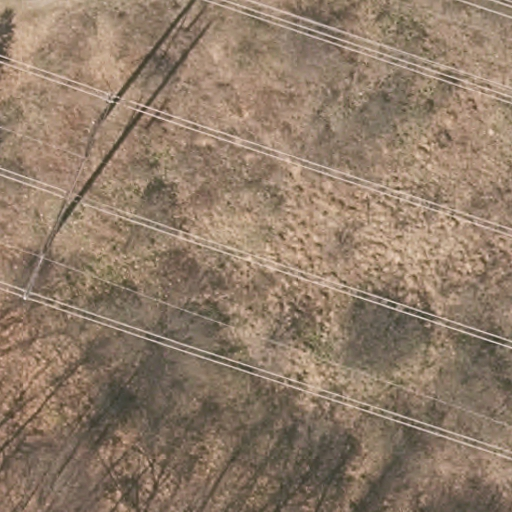DT: (20, 251, 45, 302)
